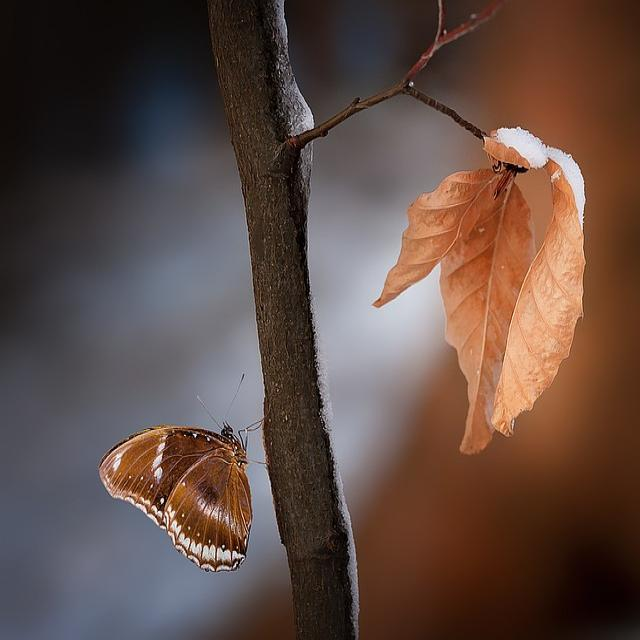butterfly: (99, 425, 252, 571)
